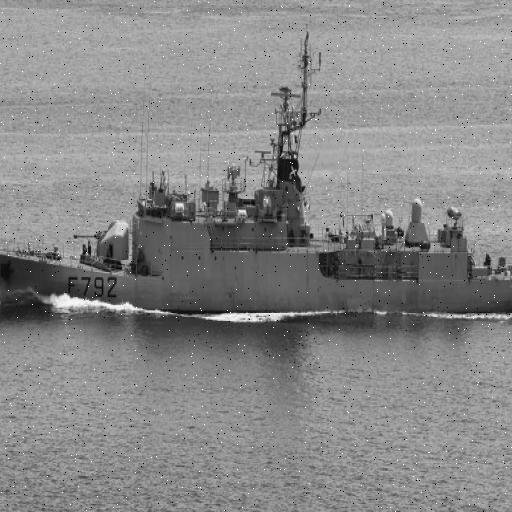Fragata: (1, 42, 512, 322)
